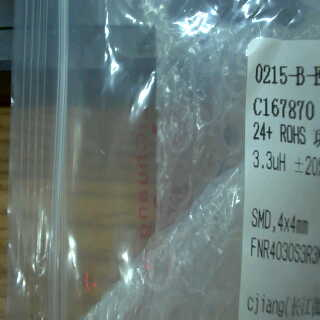3.3uH: (249, 145, 291, 175)
